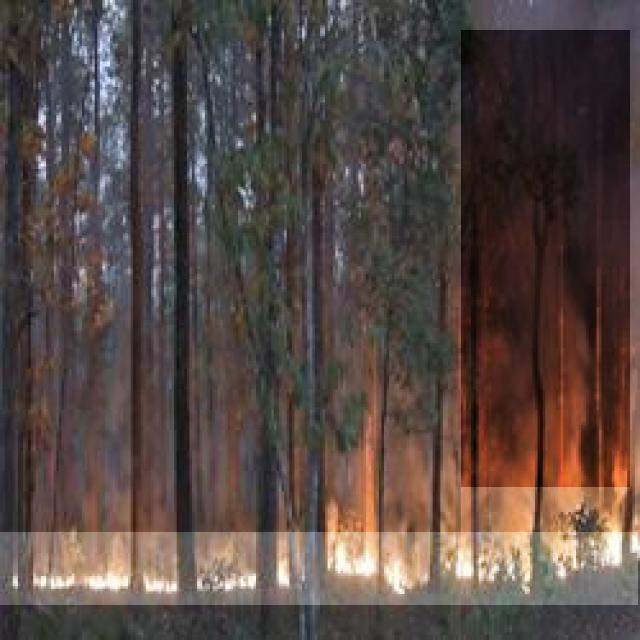Fire: (1, 532, 638, 605)
Smoke: (461, 30, 630, 487)
